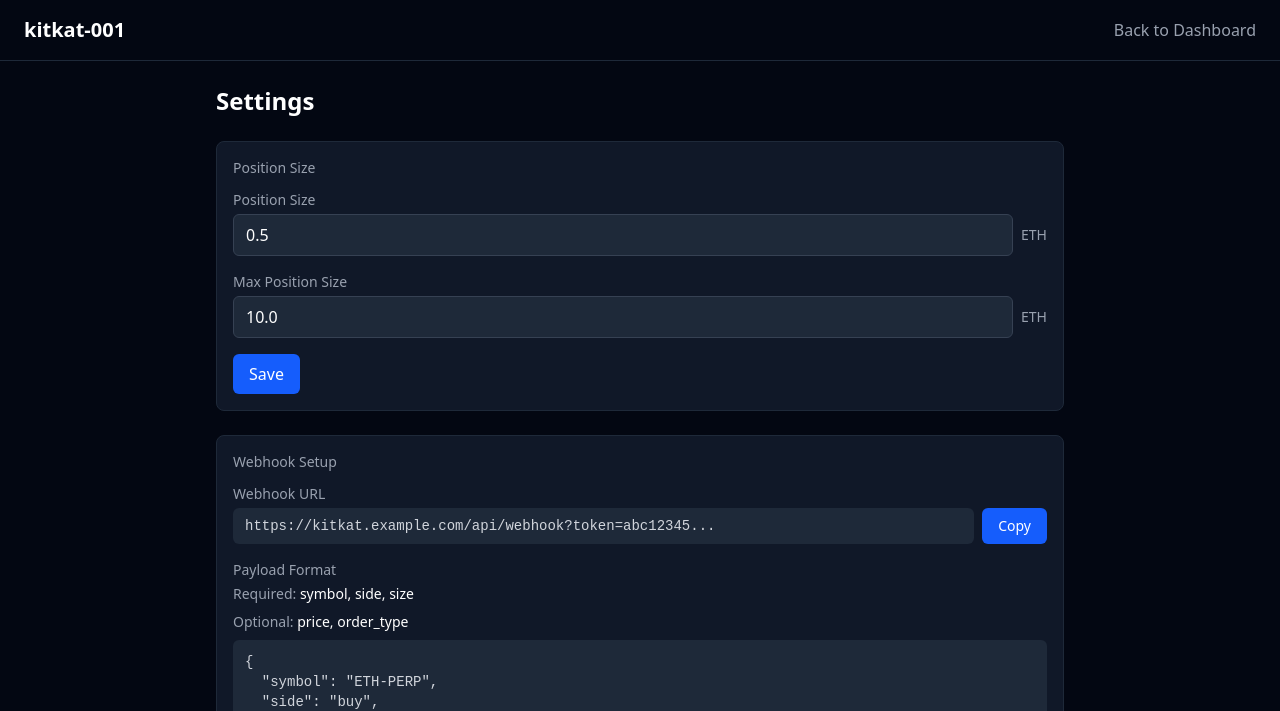
SettingsPage › shows validation error for max > 100
Step 1. Replace the text in the number field labelled "Max Position Size" with "101" → (623, 317), box [233,296,1013,338]
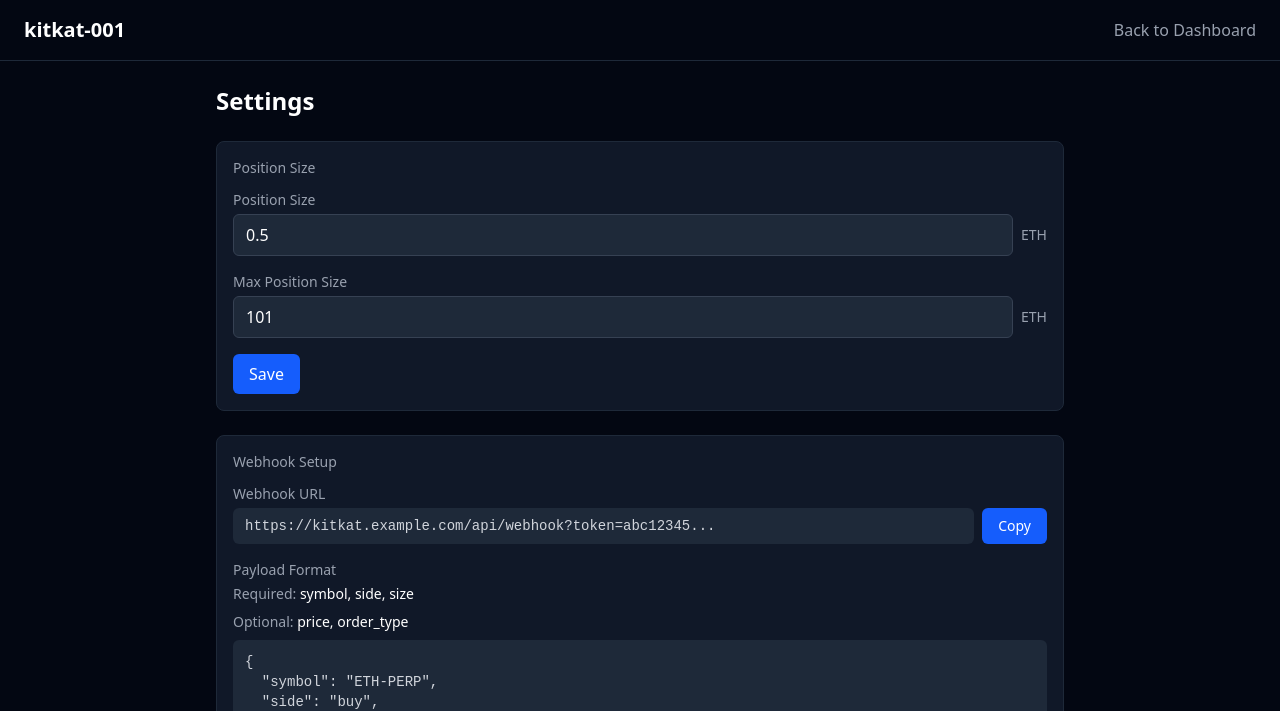
Step 2. Click the button "Save" → (266, 374), box [233,354,300,394]
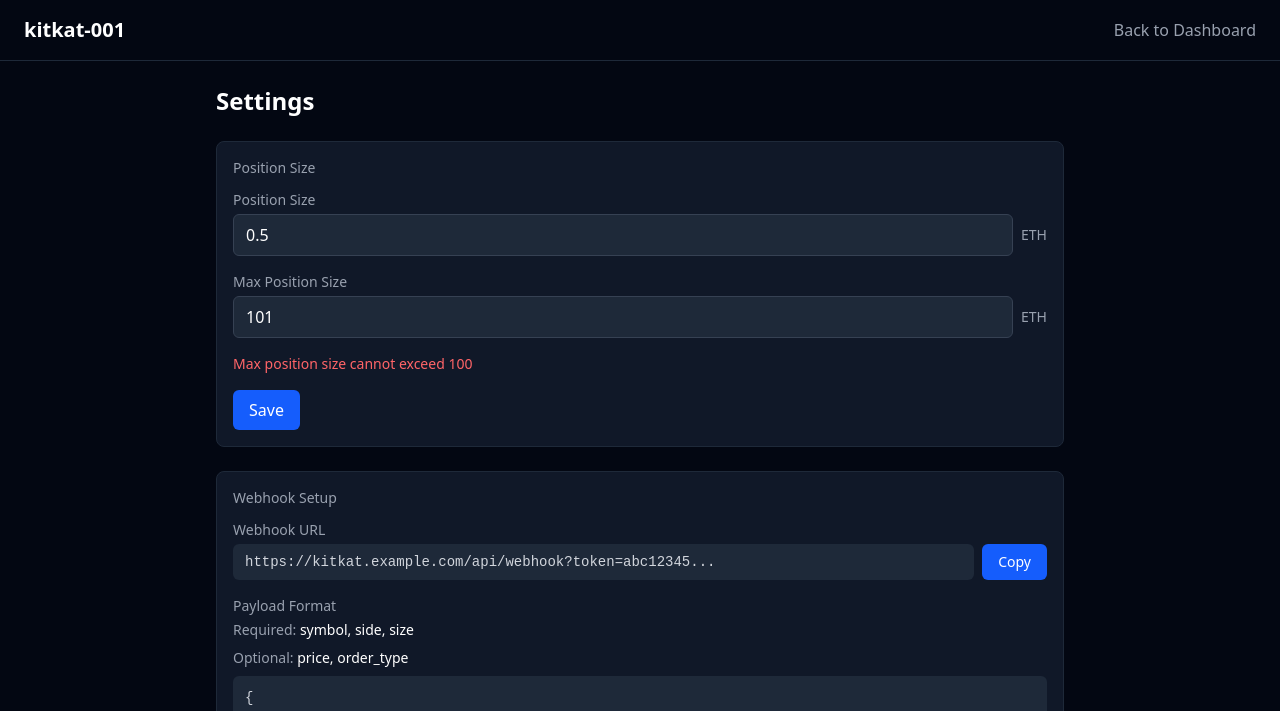
expect the text "Max position size cannot exceed 100" is shown: met, box [233,354,472,373]
